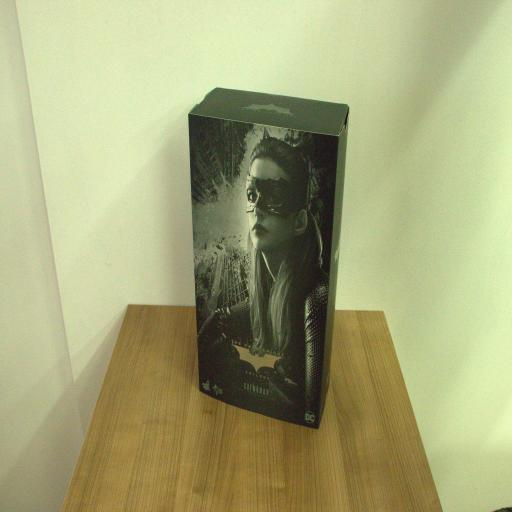catwoman: (188, 86, 348, 430)
